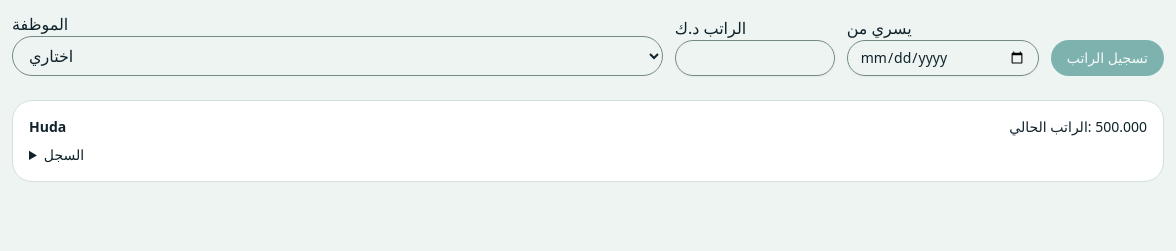
lists the current salary and the effective-dated history
Expected: the text "500.000" is shown, 1095,117 -> 1147,136
Click the heading "السجل" at (64, 154), box 44,145 -> 84,164
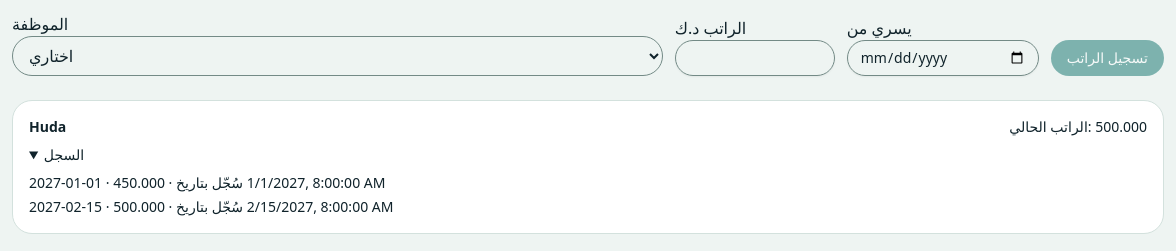
Expected: the text "450.000" is shown, 113,173 -> 165,192
Expected: the text "2027-01-01" is shown, 29,173 -> 102,192
Expected: the text "2027-02-15" is shown, 29,197 -> 102,216
